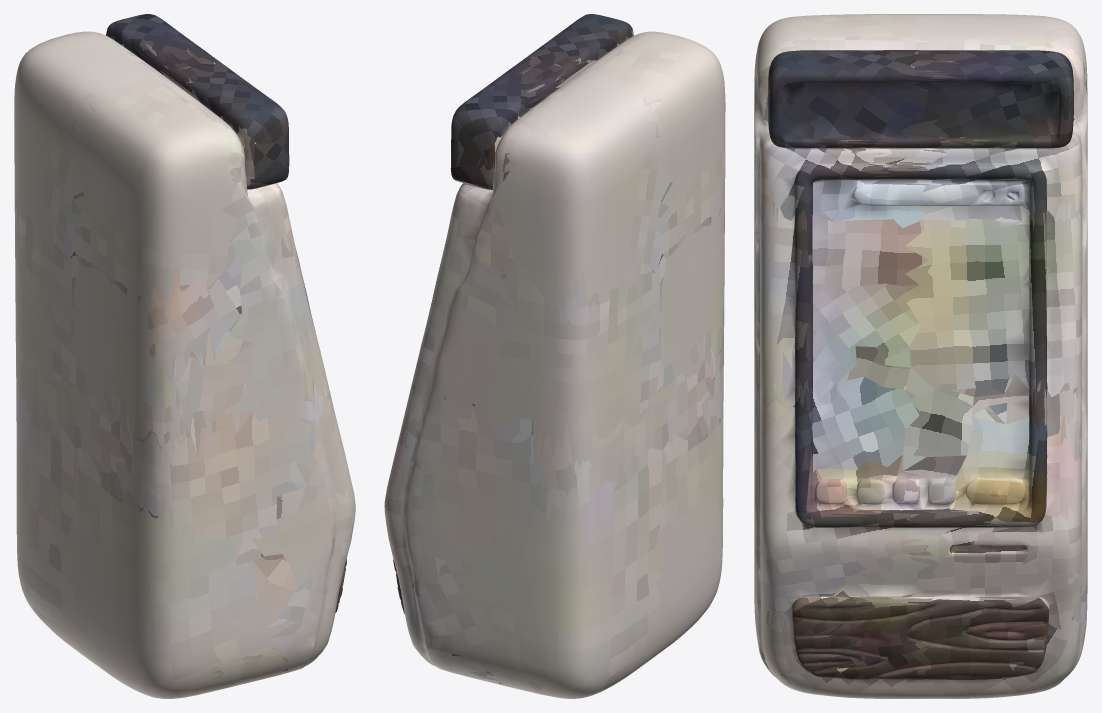
File: JP_사물_s2_prop_kiosk.glb
The picture shows the model from 3 angles, left to right: view 1: azimuth 30°, elevation 25°; view 2: azimuth 150°, elevation 25°; view 3: azimuth 270°, elevation 25°; orthographic projection. The views are drawn at different scales.
Parts seen in each view (by area): view 1: tripo_node_78295d36-ed84-4fe3-ace6-bc33c3e64023; view 2: tripo_node_78295d36-ed84-4fe3-ace6-bc33c3e64023; view 3: tripo_node_78295d36-ed84-4fe3-ace6-bc33c3e64023.
Part boxes in pixels (x1,y1,x2,y2): tripo_node_78295d36-ed84-4fe3-ace6-bc33c3e64023: [14, 14, 355, 698]; tripo_node_78295d36-ed84-4fe3-ace6-bc33c3e64023: [384, 14, 725, 698]; tripo_node_78295d36-ed84-4fe3-ace6-bc33c3e64023: [754, 14, 1087, 698].
Bounding box in the file's own units: 0.3894 × 1 × 0.4897.
1 material, 1 textured.
